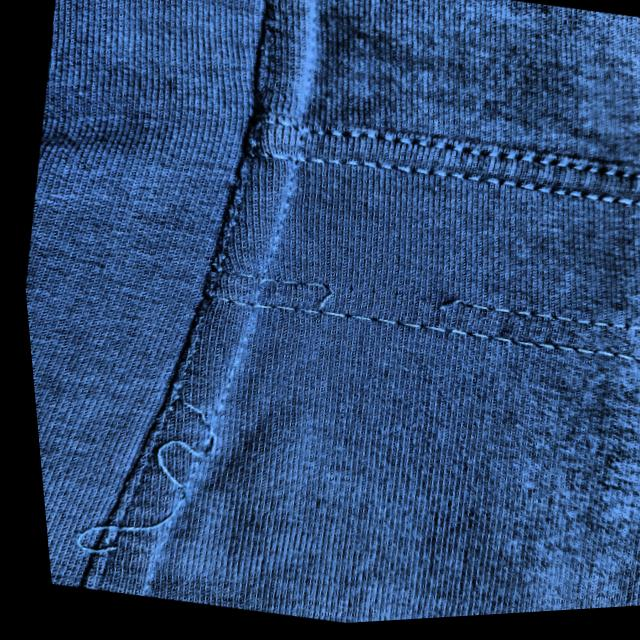Stitch: (35, 365, 247, 593), (281, 253, 489, 348)
